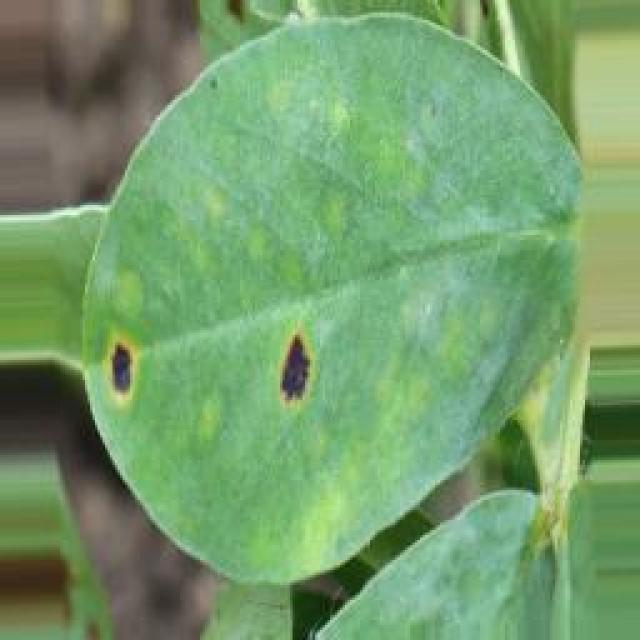Yellowish: (68, 291, 333, 421)
